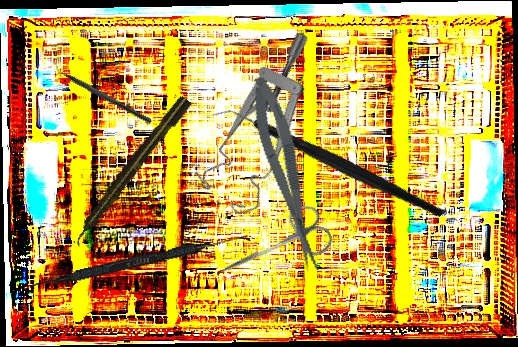Chopper: (209, 43, 448, 285), (47, 58, 157, 125)
Handpiece: (67, 94, 194, 248)
Iris Scissors: (206, 199, 337, 299)
Micro Scissor: (244, 73, 326, 277)
Spatula Surgical: (26, 227, 251, 296)
Speculum: (166, 27, 371, 228)
